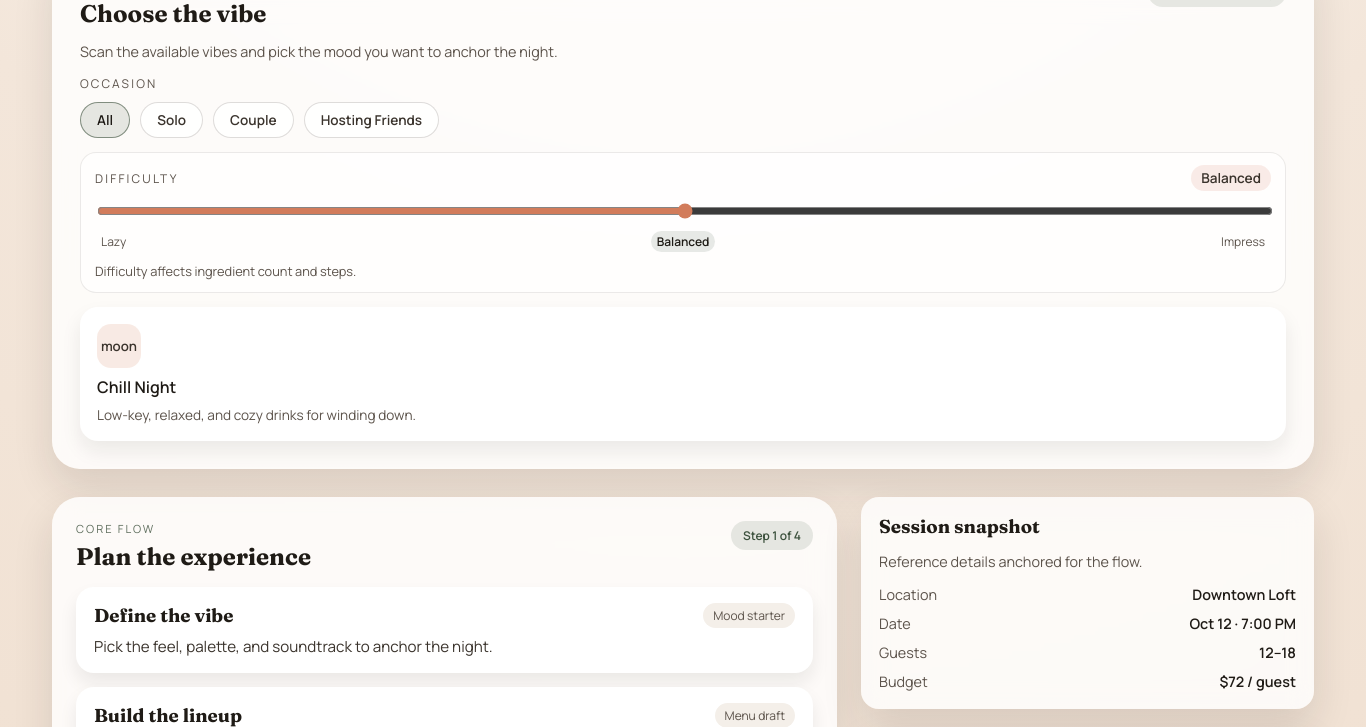
Test: AppLayout difficulty slider › updates the label and request URL when the slider changes
(page scrolled)
Click the button "Chill Night": (683, 374) [80, 307, 1286, 441]
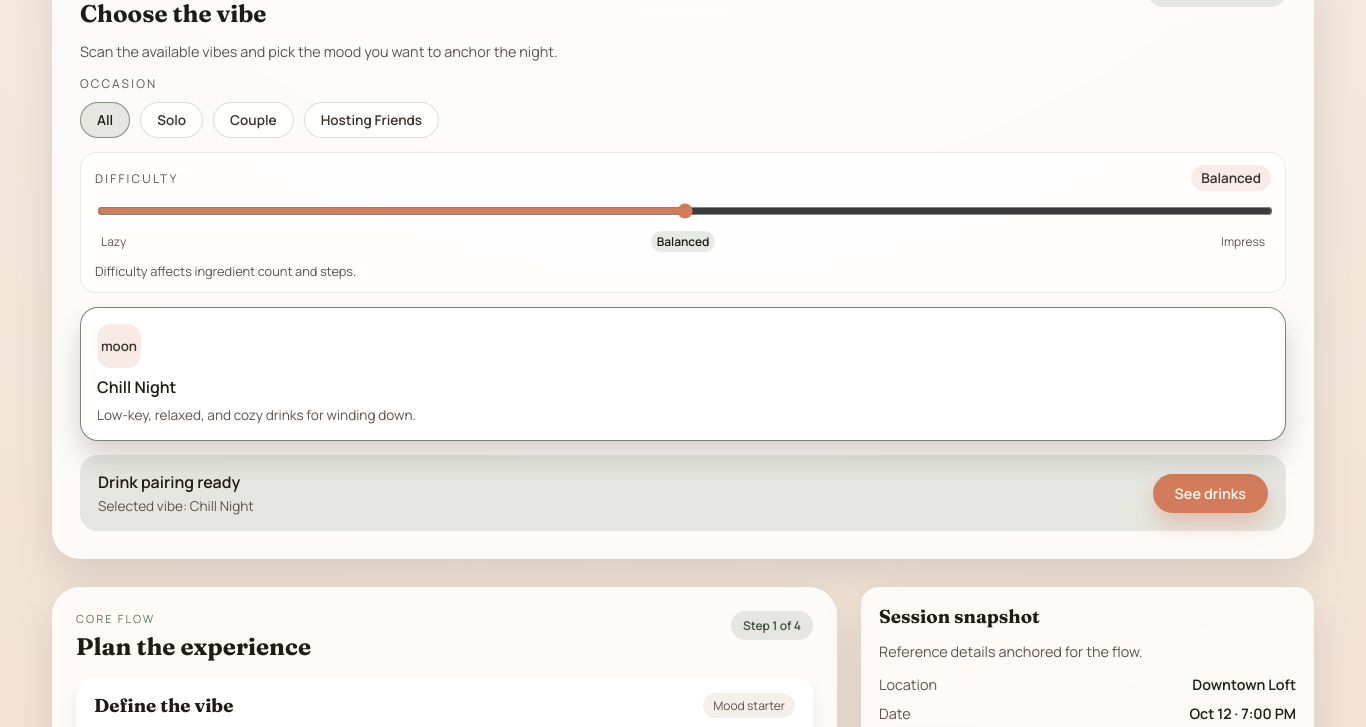
Set the slider named "Difficulty" to "2": (1265, 211) [97, 203, 1273, 219]
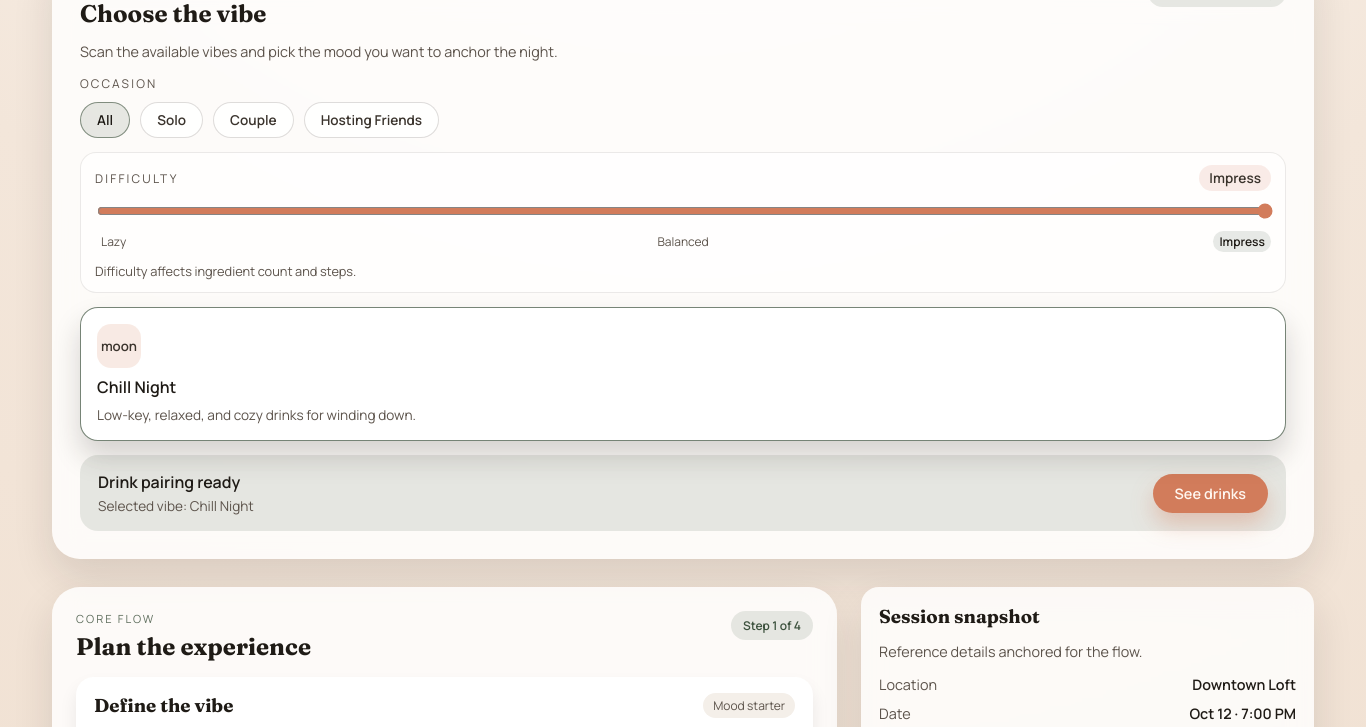
Expected: the 1st text "Impress" is shown, [1199, 165, 1271, 191]
